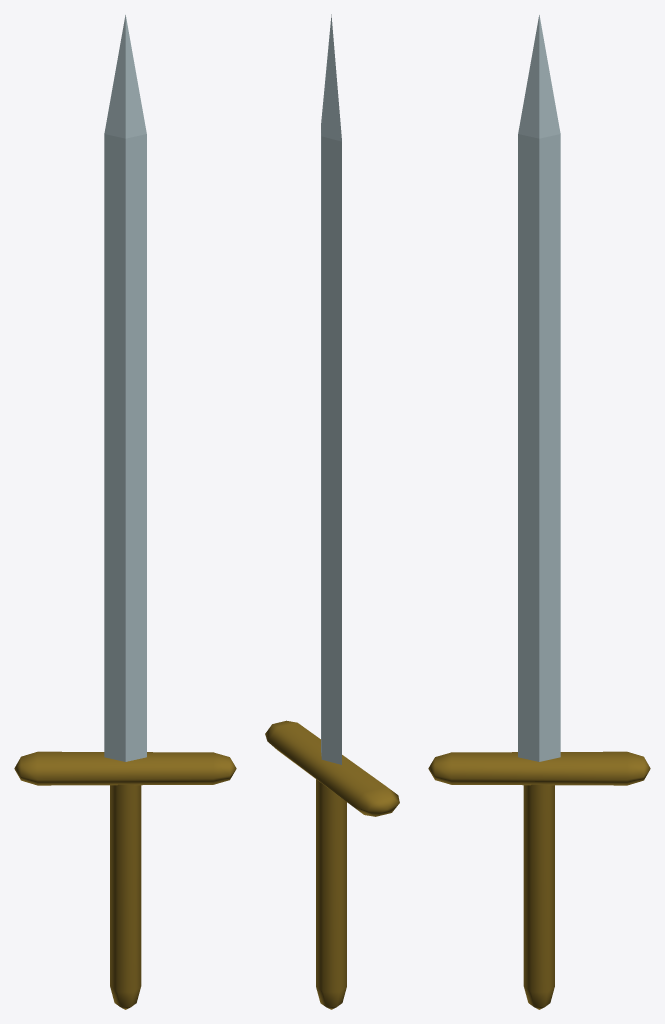
The model's file is SM_Prop_Sword.fbx.
3 renders of one model, left to right at view 1: azimuth 90°, elevation 25°; view 2: azimuth 210°, elevation 25°; view 3: azimuth 270°, elevation 25°, orthographic.
Visible parts, largest first — view 1: geo_Sword; view 2: geo_Sword; view 3: geo_Sword.
Part boxes in pixels (<box>): geo_Sword: <box>14,15,236,1009</box>; geo_Sword: <box>265,14,399,1009</box>; geo_Sword: <box>428,15,650,1009</box>.
Bounding box in the file's own units: 6.15 × 128 × 25.97.
